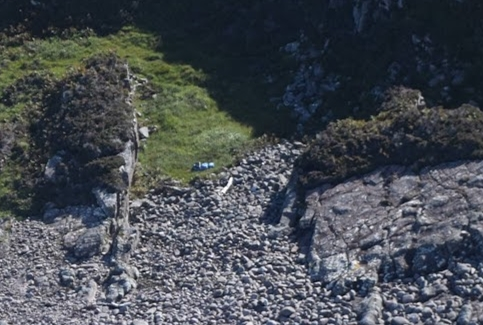straight_bar: (211, 171, 246, 200)
white_in_green: (182, 144, 224, 183)
